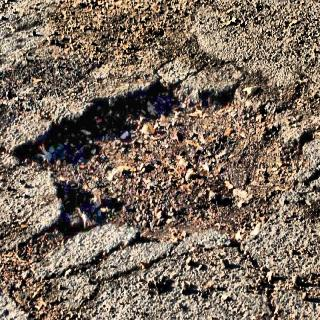pothole: (2, 69, 320, 261)
